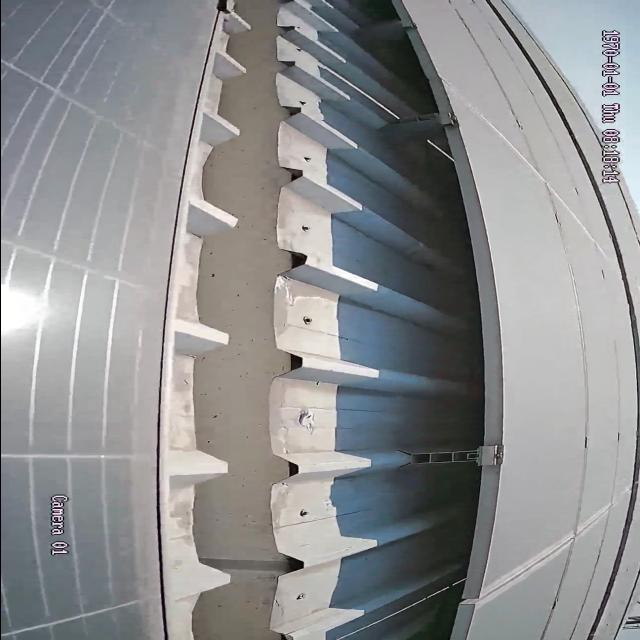interior panel: (489, 489, 622, 602)
outher panel: (157, 0, 493, 640)
